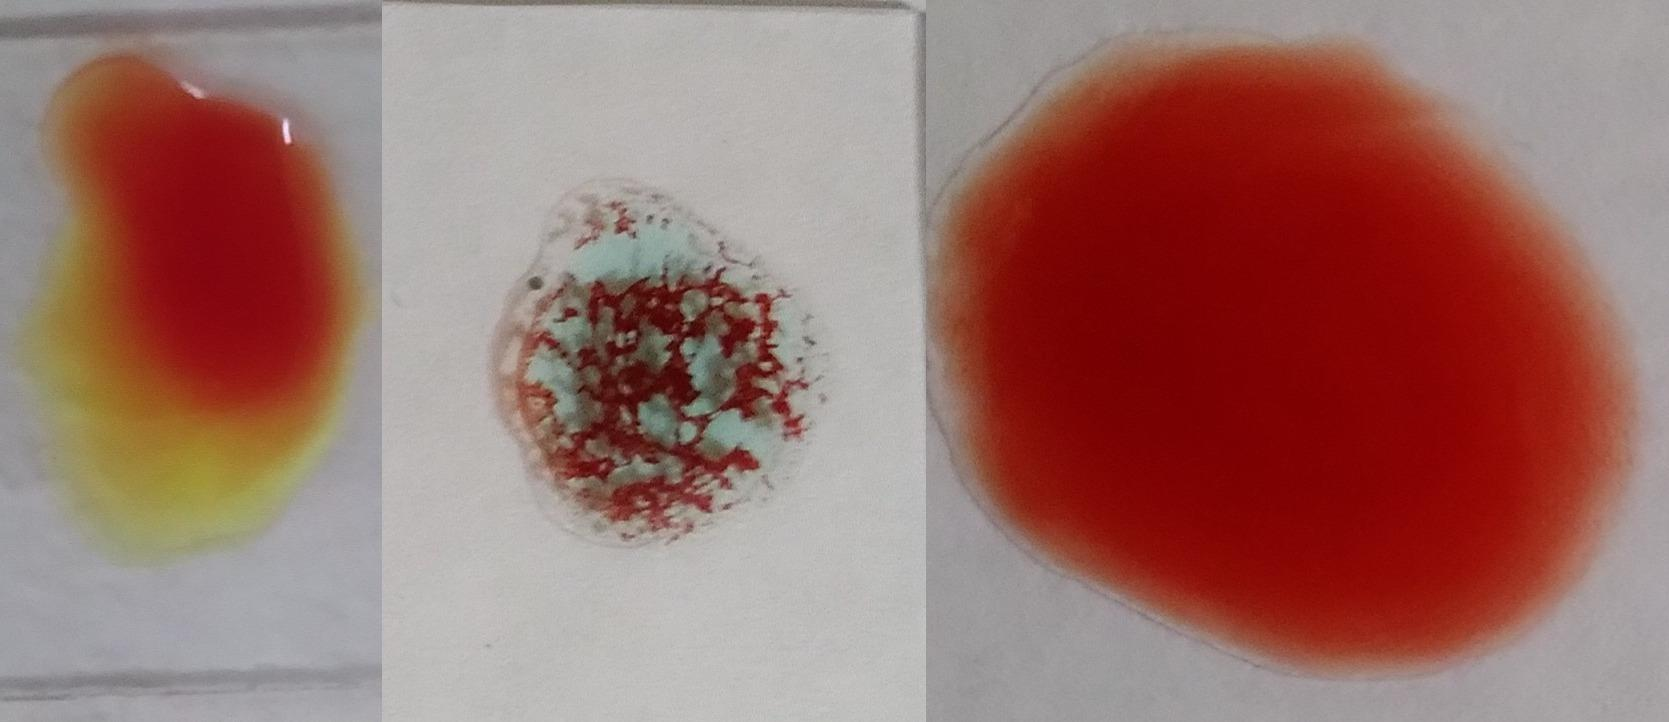A: (500, 183, 824, 564)
